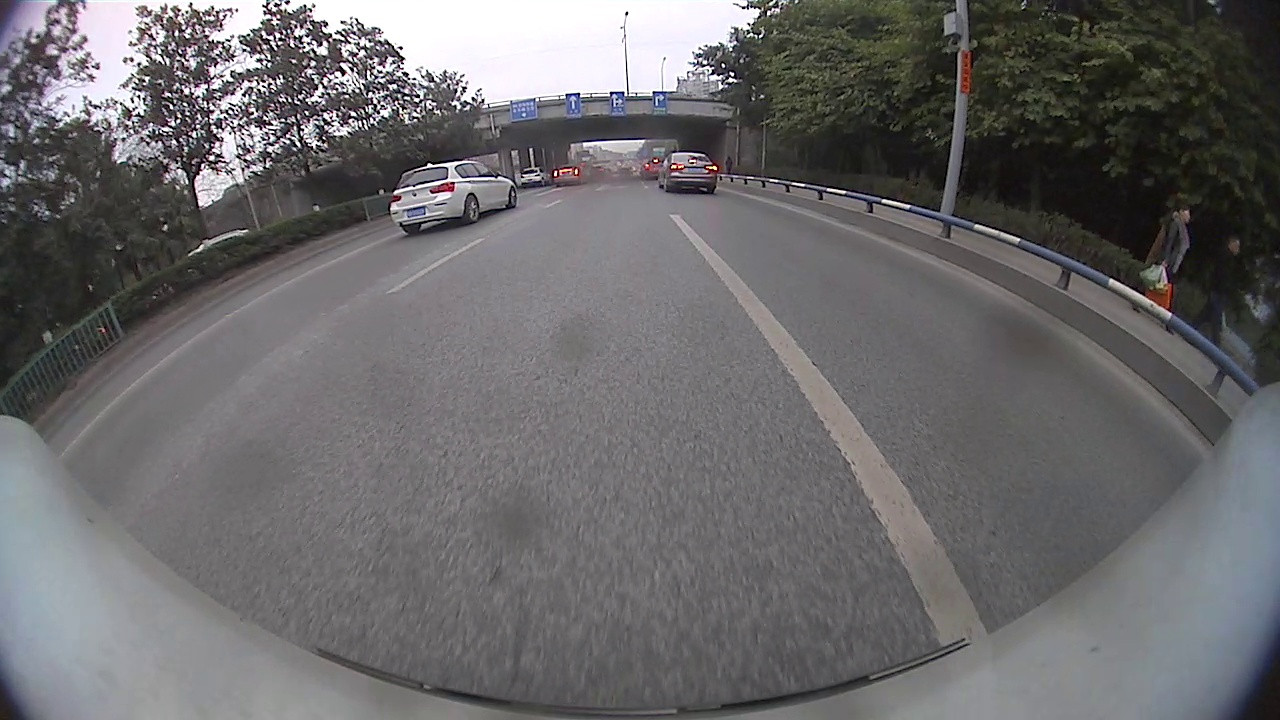car: (386, 157, 519, 237), (655, 149, 721, 196)
front: (507, 187, 520, 210)
person: (1161, 200, 1191, 338), (1210, 236, 1240, 348)
rear: (463, 195, 482, 226)
